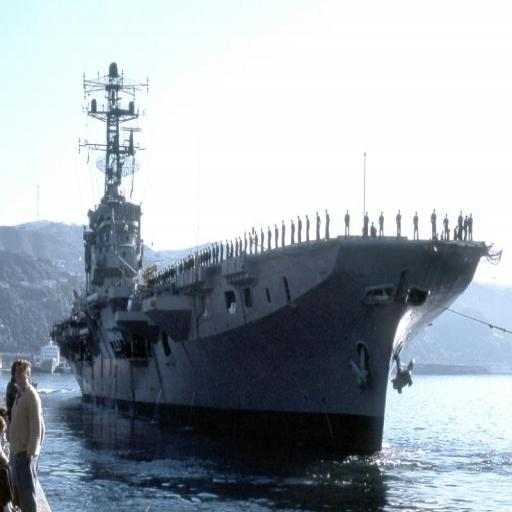Portanaves: (48, 53, 502, 462)
